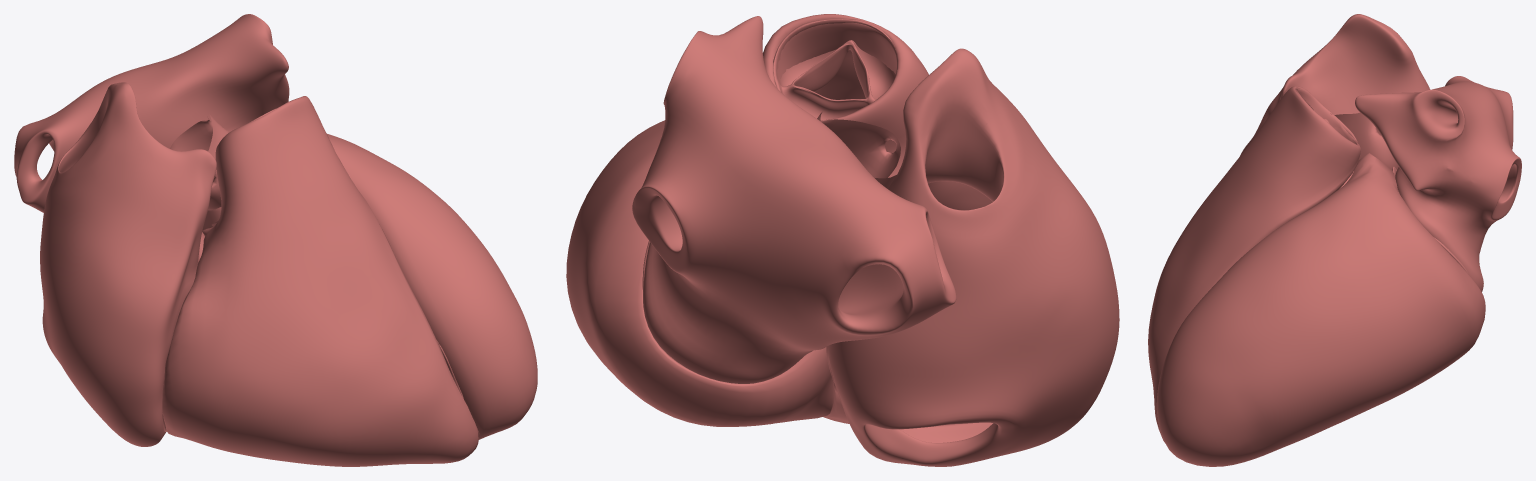
File: heart-male.glb
The picture shows the model from 3 angles, left to right: view 1: azimuth 30°, elevation 25°; view 2: azimuth 150°, elevation 25°; view 3: azimuth 270°, elevation 25°; orthographic projection. The views are drawn at different scales.
Visible parts, largest first — view 1: VH_M_heart_right_ventricle, VH_M_right_cardiac_atrium, VH_M_heart_left_ventricle, VH_M_left_cardiac_atrium, VH_M_aortic_valve; view 2: VH_M_left_cardiac_atrium, VH_M_right_cardiac_atrium, VH_M_heart_left_ventricle, VH_M_heart_right_ventricle, VH_M_pulmonary_valve, VH_M_aortic_valve; view 3: VH_M_heart_left_ventricle, VH_M_heart_right_ventricle, VH_M_left_cardiac_atrium, VH_M_right_cardiac_atrium, VH_M_aortic_valve.
Part boxes in pixels (left/top/right/bottom): VH_M_heart_right_ventricle: left=162, top=96, right=478, bottom=466; VH_M_right_cardiac_atrium: left=40, top=82, right=216, bottom=446; VH_M_heart_left_ventricle: left=202, top=134, right=537, bottom=439; VH_M_left_cardiac_atrium: left=14, top=14, right=289, bottom=212; VH_M_aortic_valve: left=170, top=114, right=229, bottom=210; VH_M_left_cardiac_atrium: left=632, top=16, right=956, bottom=383; VH_M_right_cardiac_atrium: left=826, top=48, right=1119, bottom=466; VH_M_heart_left_ventricle: left=566, top=120, right=833, bottom=426; VH_M_heart_right_ventricle: left=763, top=14, right=928, bottom=423; VH_M_pulmonary_valve: left=773, top=19, right=895, bottom=119; VH_M_aortic_valve: left=817, top=112, right=900, bottom=188; VH_M_heart_left_ventricle: left=1156, top=153, right=1485, bottom=466; VH_M_heart_right_ventricle: left=1148, top=86, right=1360, bottom=442; VH_M_left_cardiac_atrium: left=1355, top=76, right=1521, bottom=291; VH_M_right_cardiac_atrium: left=1240, top=14, right=1429, bottom=155; VH_M_aortic_valve: left=1334, top=112, right=1398, bottom=169.
Size of the model in its own units: 0.1244 by 0.1054 by 0.1052.
